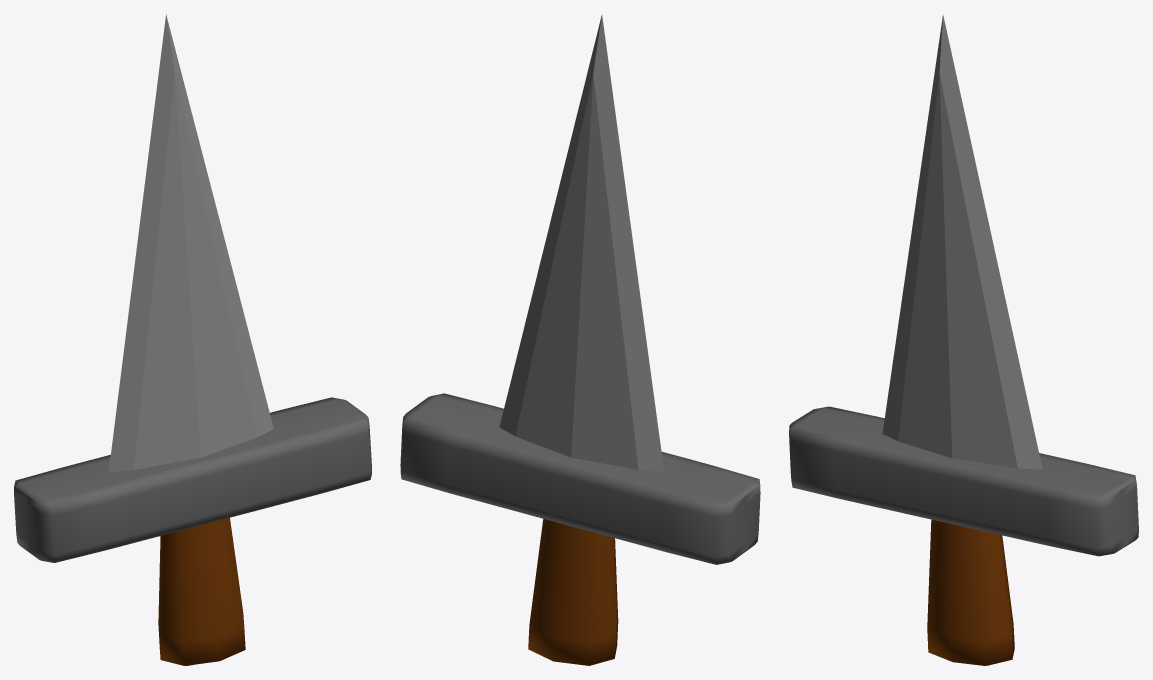
The model's file is Arma.fbx.
The picture shows the model from 3 angles, left to right: view 1: azimuth 30°, elevation 25°; view 2: azimuth 150°, elevation 25°; view 3: azimuth 330°, elevation 25°; orthographic projection. The views are drawn at different scales.
Parts seen in each view (by area): view 1: Tail.003; view 2: Tail.003; view 3: Tail.003.
Boxes of the visible parts, box(x1,y1,x2,y2) form: Tail.003: box(14, 14, 371, 665); Tail.003: box(400, 15, 760, 665); Tail.003: box(789, 14, 1138, 665).
Bounding box in the file's own units: 4.35 × 8.06 × 0.9625.
